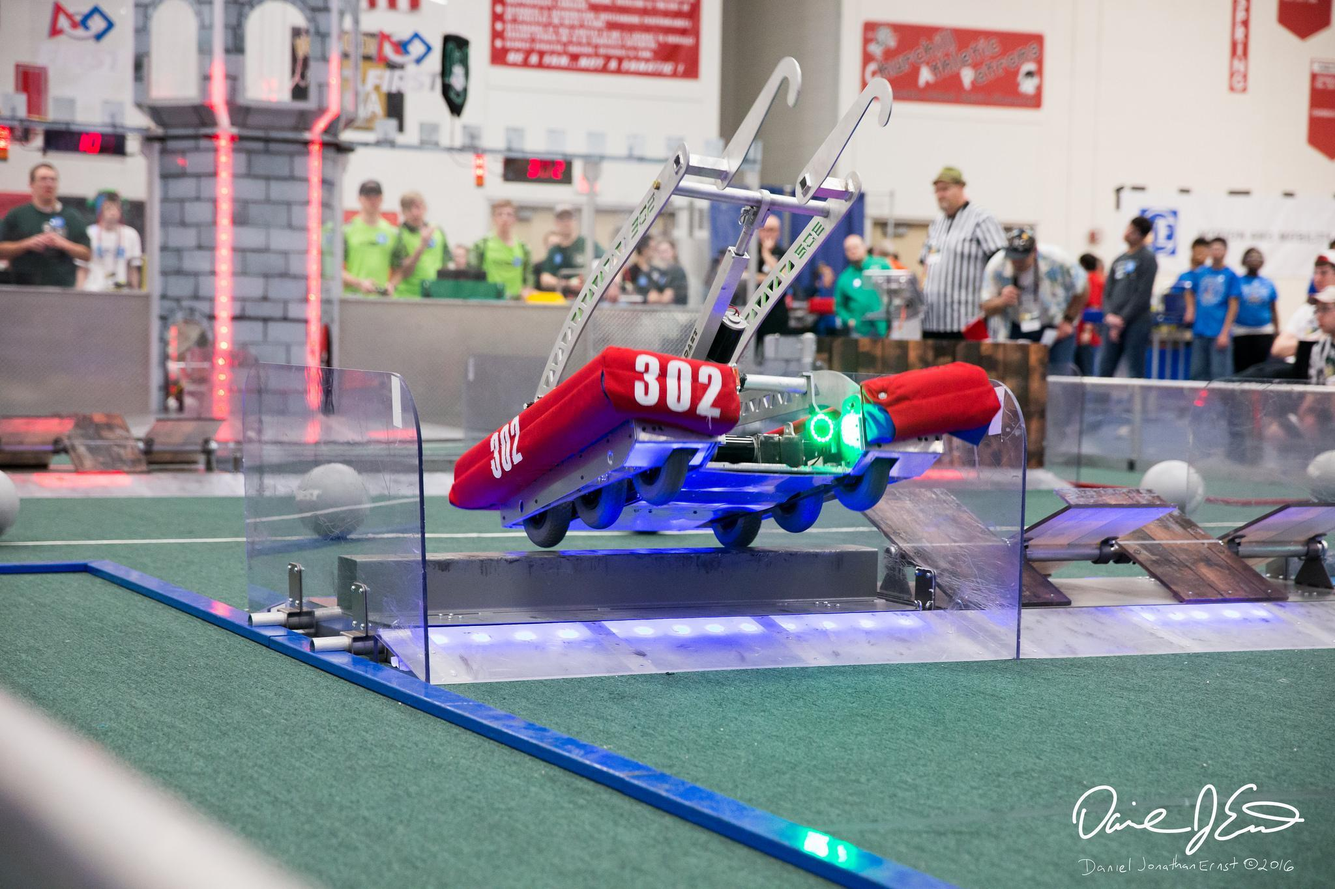robot: (446, 55, 1013, 567)
